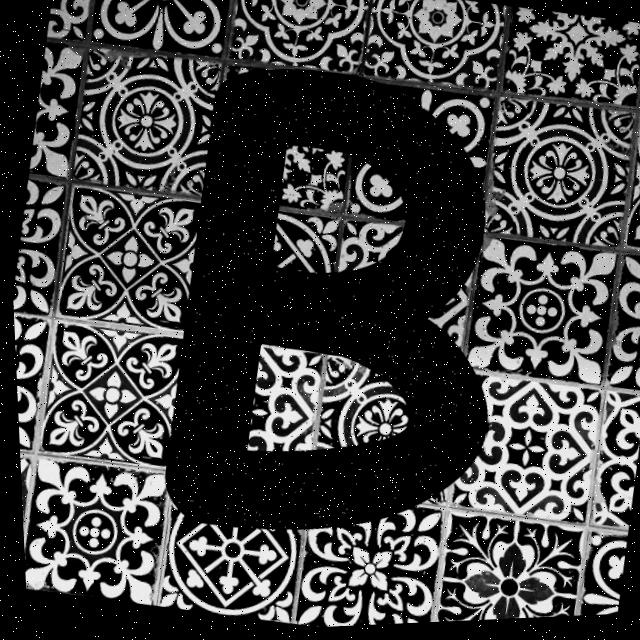B: (161, 72, 484, 532)
